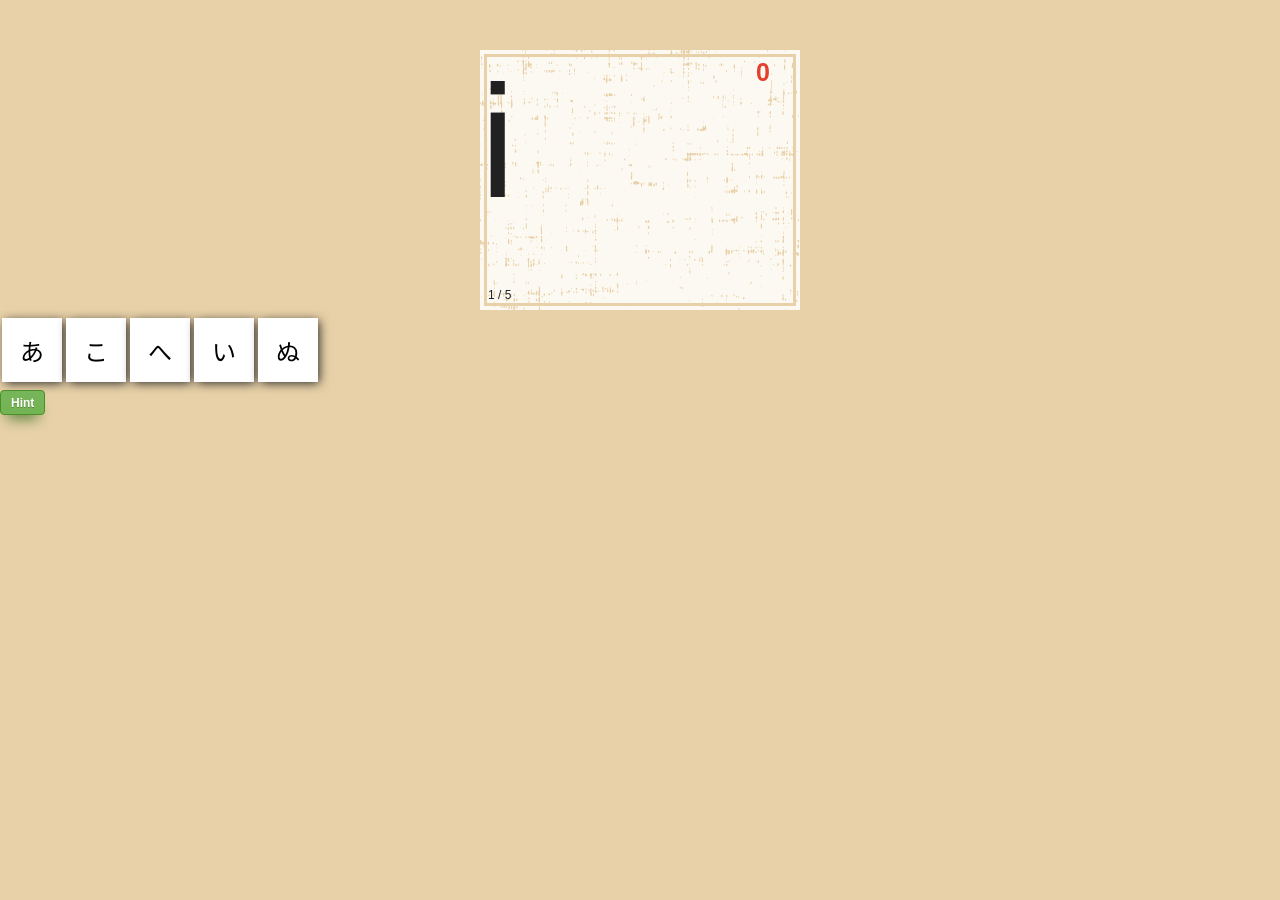
it: Game page › counts a correct answer and offers the next question
Step 1. Click the button "い" → (224, 350), box [194, 318, 254, 382]
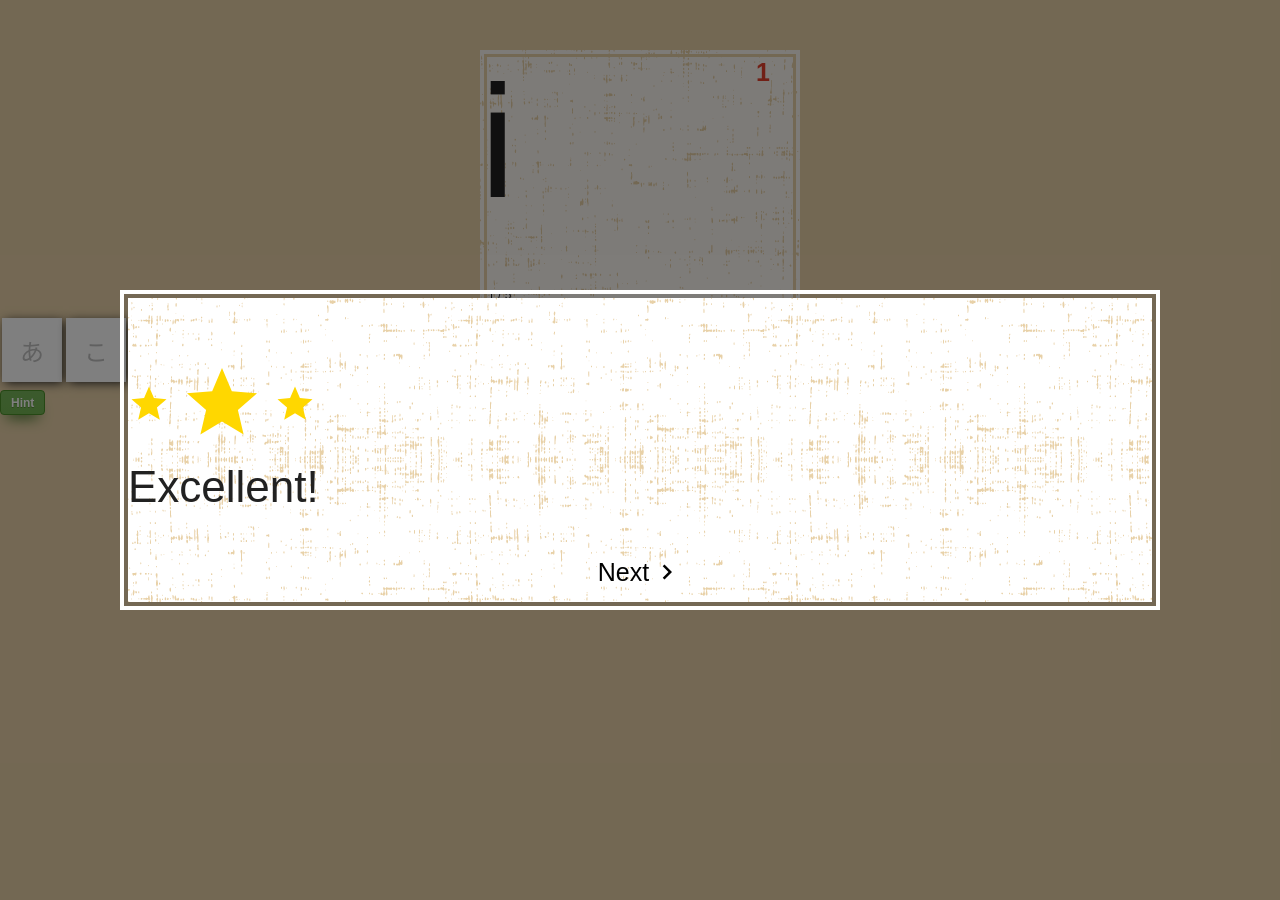
Now the element with class "correct" showing "Excellent!" is shown, box [128, 361, 319, 511]
Now the text "Excellent!" is shown, box [128, 462, 319, 511]
Now the button with class "next-question-button" is shown, box [565, 542, 715, 602]
